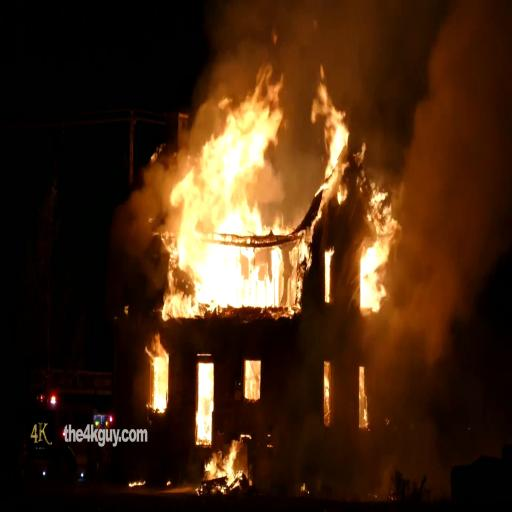fire: (160, 63, 285, 317), (343, 202, 404, 316), (314, 75, 348, 177), (200, 433, 253, 498), (140, 338, 168, 414)
